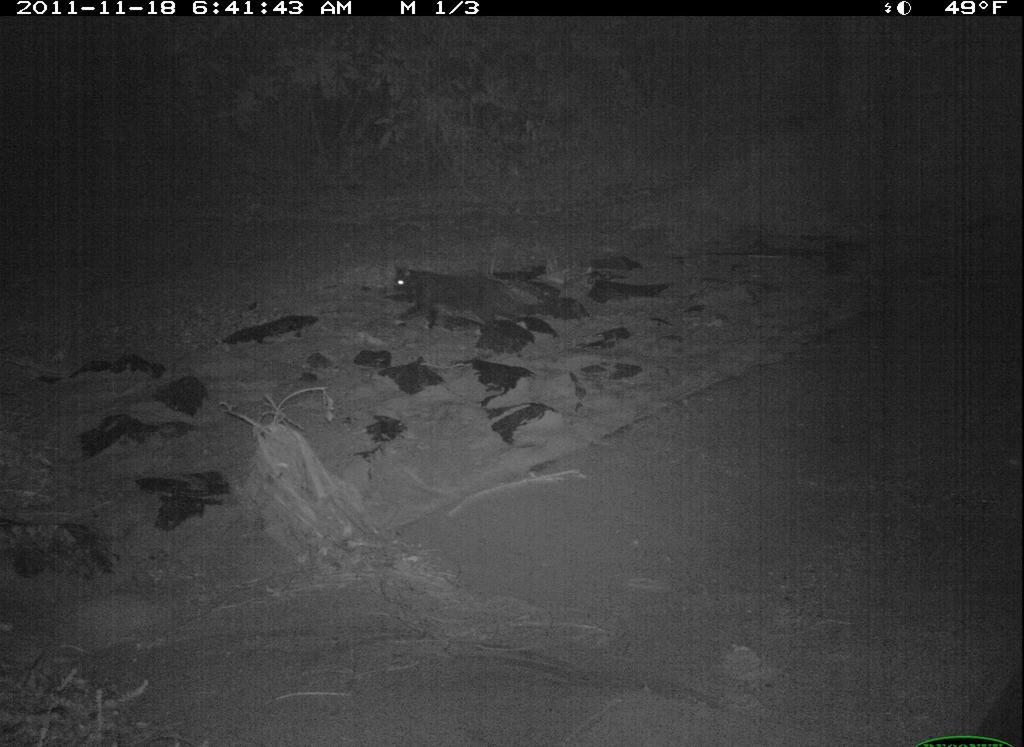cat: (386, 253, 541, 338)
